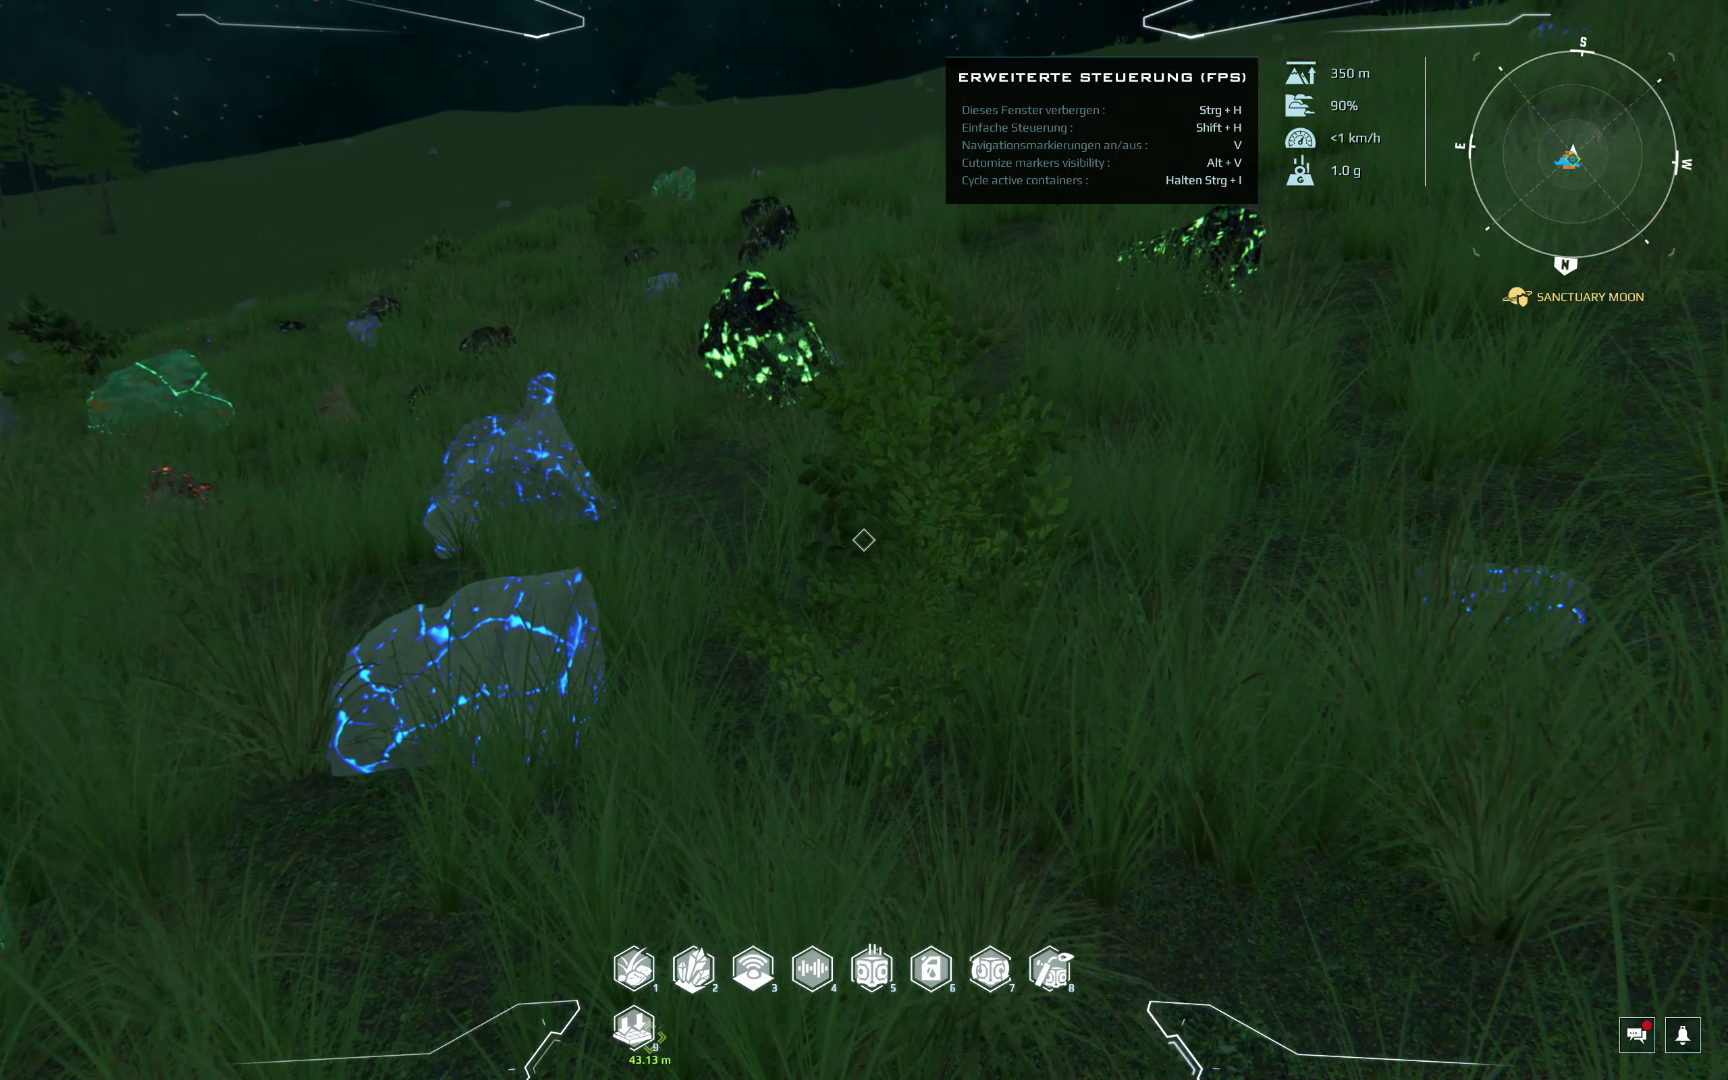Ore: (306, 562, 608, 794), (417, 370, 615, 557), (1363, 541, 1594, 654), (694, 268, 838, 404), (76, 342, 236, 447), (1117, 205, 1276, 301), (729, 194, 801, 268), (136, 459, 211, 511), (455, 324, 520, 358), (648, 170, 699, 208), (358, 289, 406, 324), (341, 316, 387, 348), (618, 240, 664, 268), (265, 312, 310, 336)
